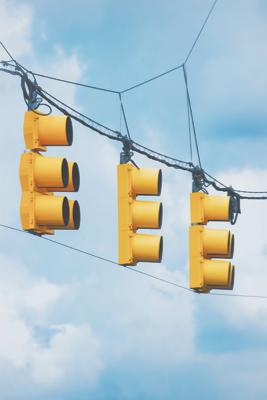International Road Signal Light: (17, 108, 80, 235), (187, 190, 236, 292), (117, 162, 164, 267)
